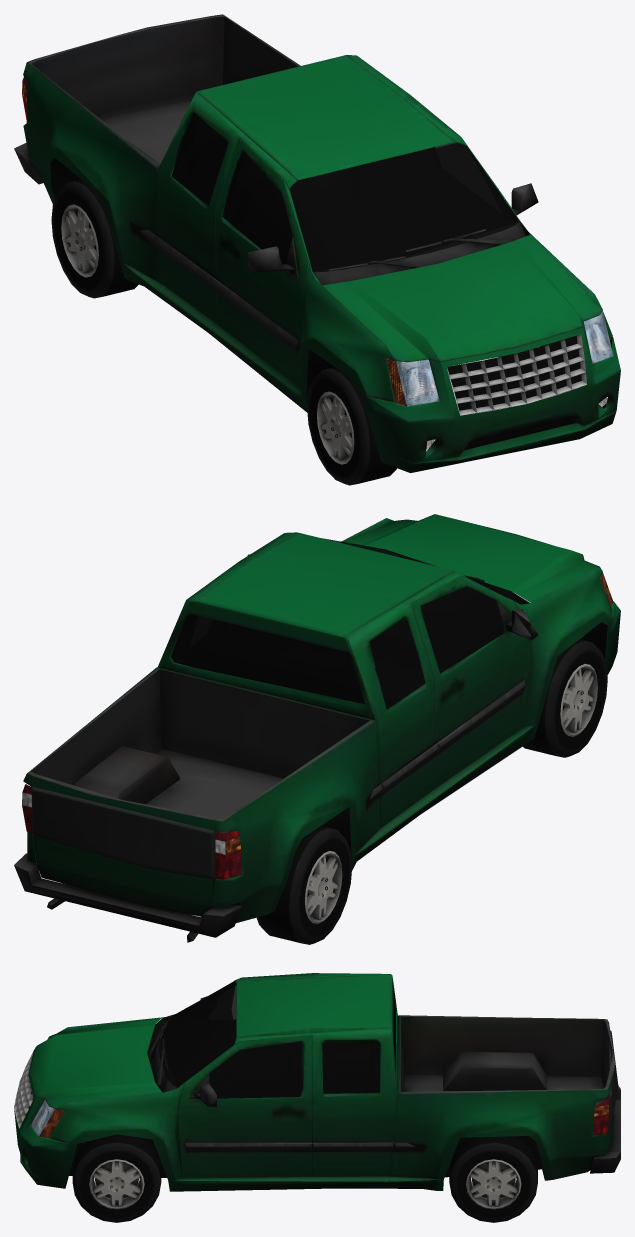
The model's file is pickup_lo.glb.
The picture shows the model from 3 angles, top to bottom: view 1: azimuth 30°, elevation 25°; view 2: azimuth 150°, elevation 25°; view 3: azimuth 270°, elevation 25°; orthographic projection. The views are drawn at different scales.
Parts seen in each view (by area): view 1: body, wheel_fr, wheel_rr; view 2: body, wheel_rr, wheel_fr; view 3: body, wheel_fl, wheel_rl.
Boxes of the visible parts, x1,y1,x2,y2 form: body: [14, 14, 620, 472]; wheel_fr: [307, 367, 396, 485]; wheel_rr: [51, 179, 138, 298]; body: [14, 514, 620, 942]; wheel_rr: [256, 825, 352, 944]; wheel_fr: [523, 639, 607, 757]; body: [14, 973, 620, 1191]; wheel_fl: [72, 1134, 161, 1222]; wheel_rl: [449, 1136, 537, 1222].
Bounding box in the file's own units: 2.07 × 1.69 × 5.17.
Materials: 4 (3 with a texture image).
